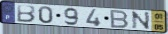0: (37, 5, 55, 25)
4: (85, 8, 102, 28)
9: (63, 7, 81, 27)
B: (109, 9, 130, 29), (16, 4, 37, 23)
N: (131, 11, 151, 31)
